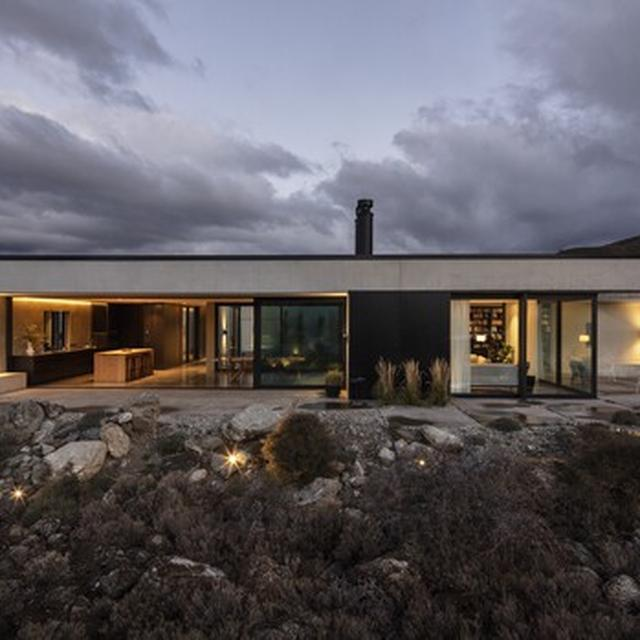building: (0, 249, 640, 402)
